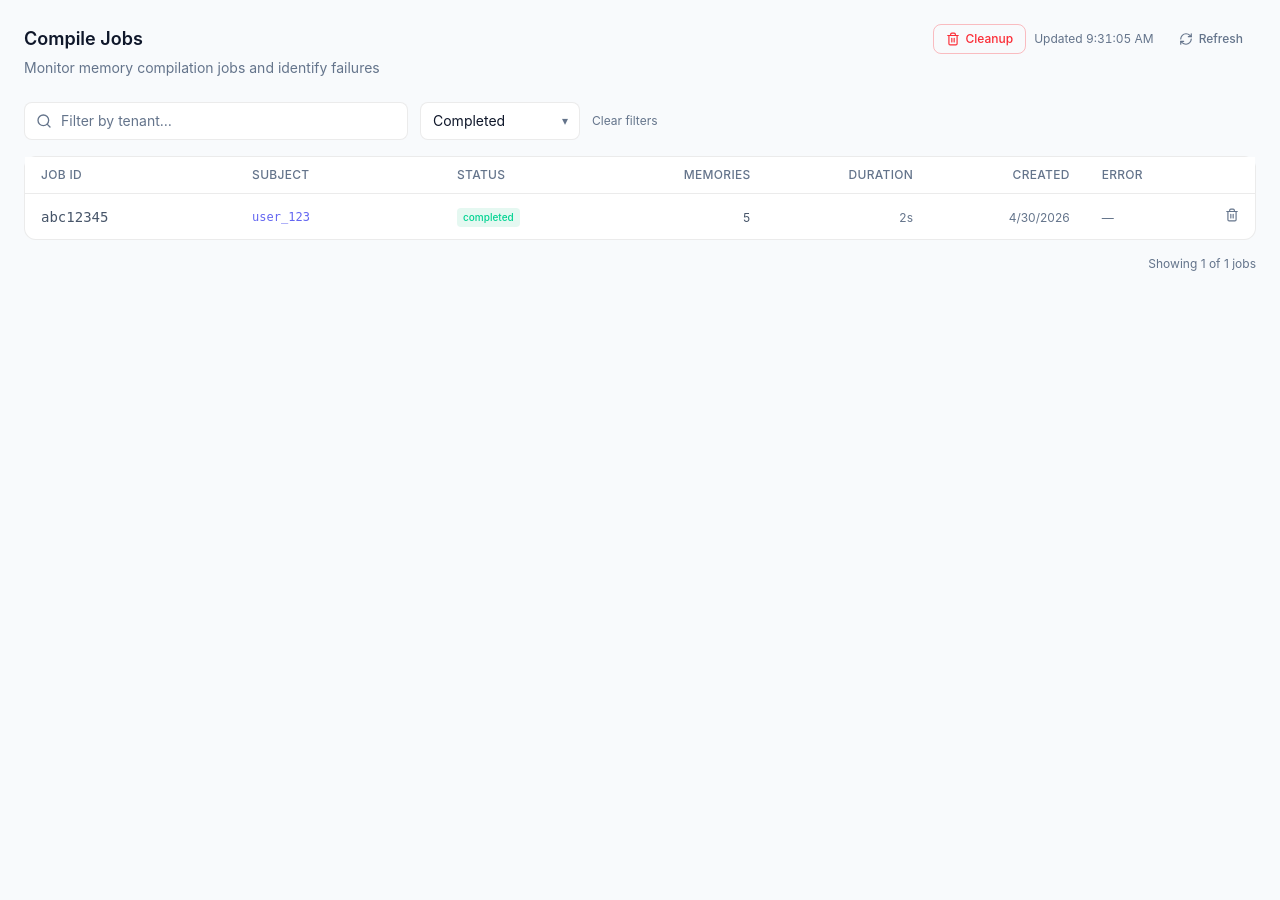
JobsPage cleanup › shows a cross-tenant warning when no tenant filter is set
What coordinates should you click on to do the following:
click the button "Cleanup"
I would click on:
 (979, 39)
Its box is [932,24,1026,54].
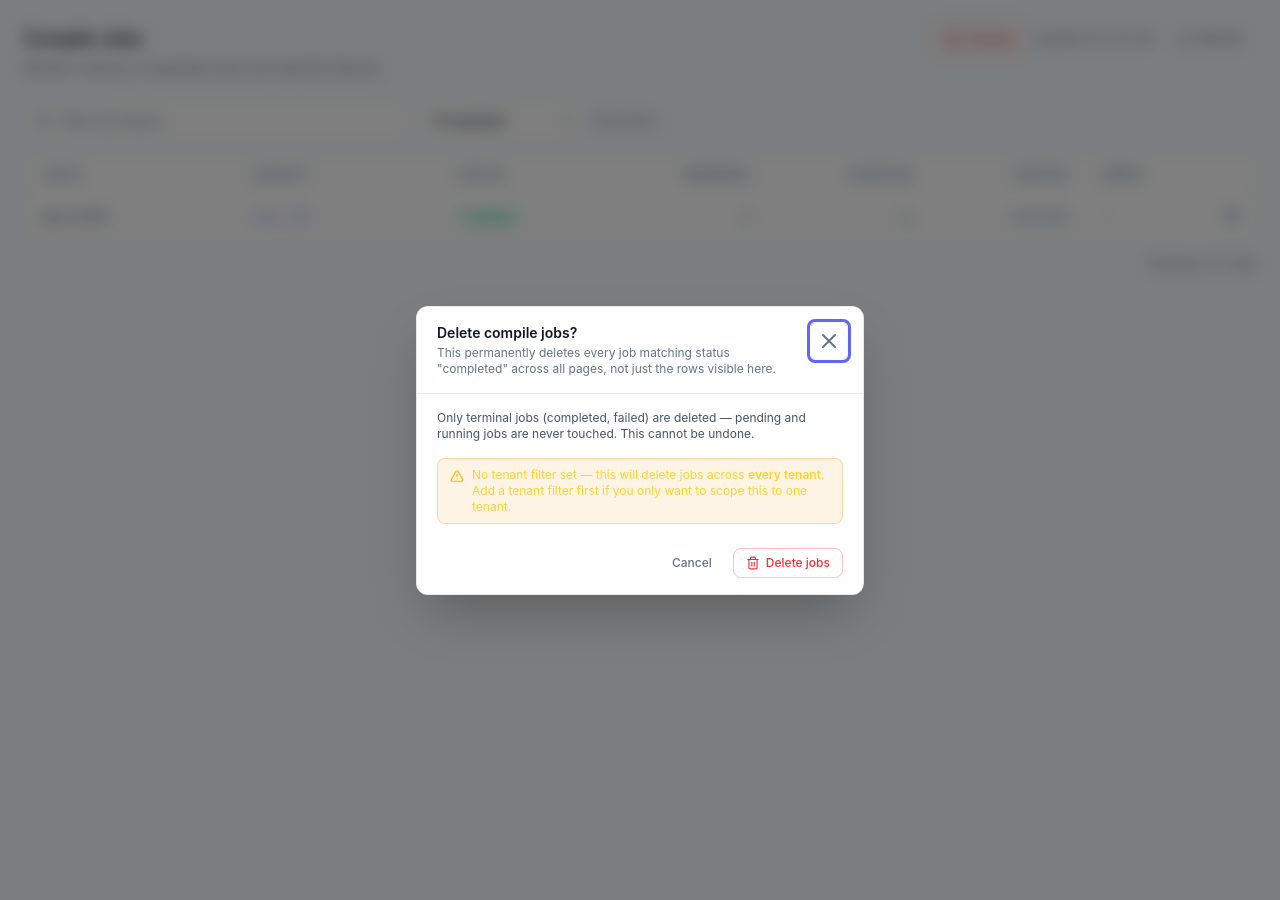
Check: the text "every tenant" is shown, box [748,466,821,482]
